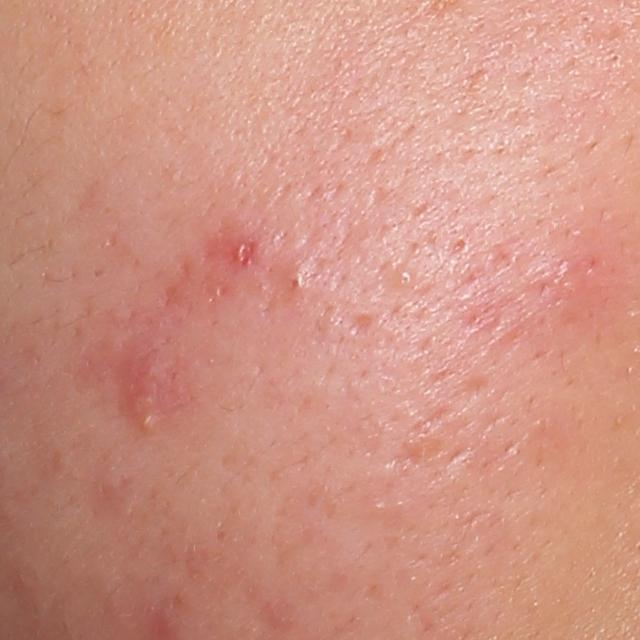comedo: (392, 264, 417, 290)
papule: (119, 377, 159, 436), (227, 235, 260, 276)
